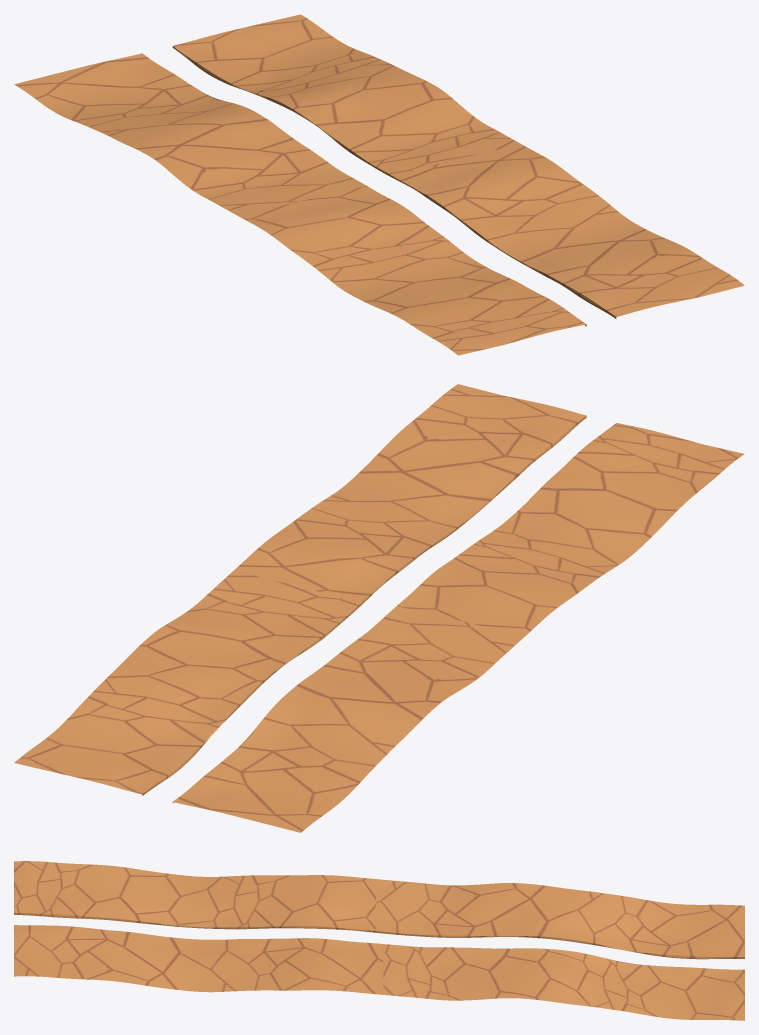
3 views of the same model, one above another, from view 1: azimuth 30°, elevation 25°; view 2: azimuth 150°, elevation 25°; view 3: azimuth 270°, elevation 25° (orthographic). The views are drawn at different scales.
Parts seen in each view (by area): view 1: Default; view 2: Default; view 3: Default.
Part boxes in pixels (left/top/right/bottom): Default: left=14, top=14, right=744, bottom=355; Default: left=14, top=384, right=744, bottom=832; Default: left=14, top=861, right=744, bottom=1020.
Size of the model in its own units: 895 by 169 by 2400.
1 material, 1 textured.
